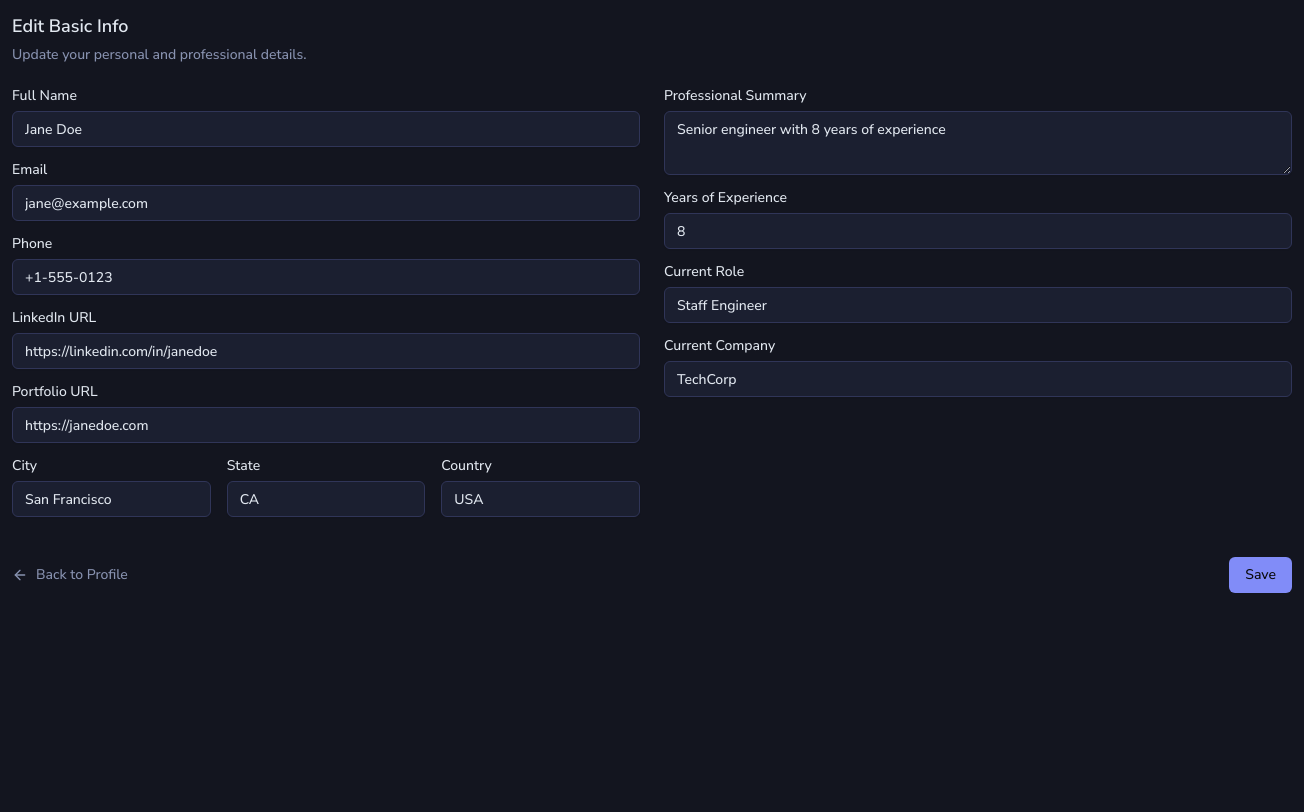
Test: BasicInfoEditor › submission › shows friendly error for DUPLICATE_EMAIL
The width and height of the screenshot is (1304, 812).
What coordinates should you click on to do the following:
click the button "Save"
I would click on:
 (1261, 575)
Its box is x1=1229 y1=557 x2=1292 y2=593.
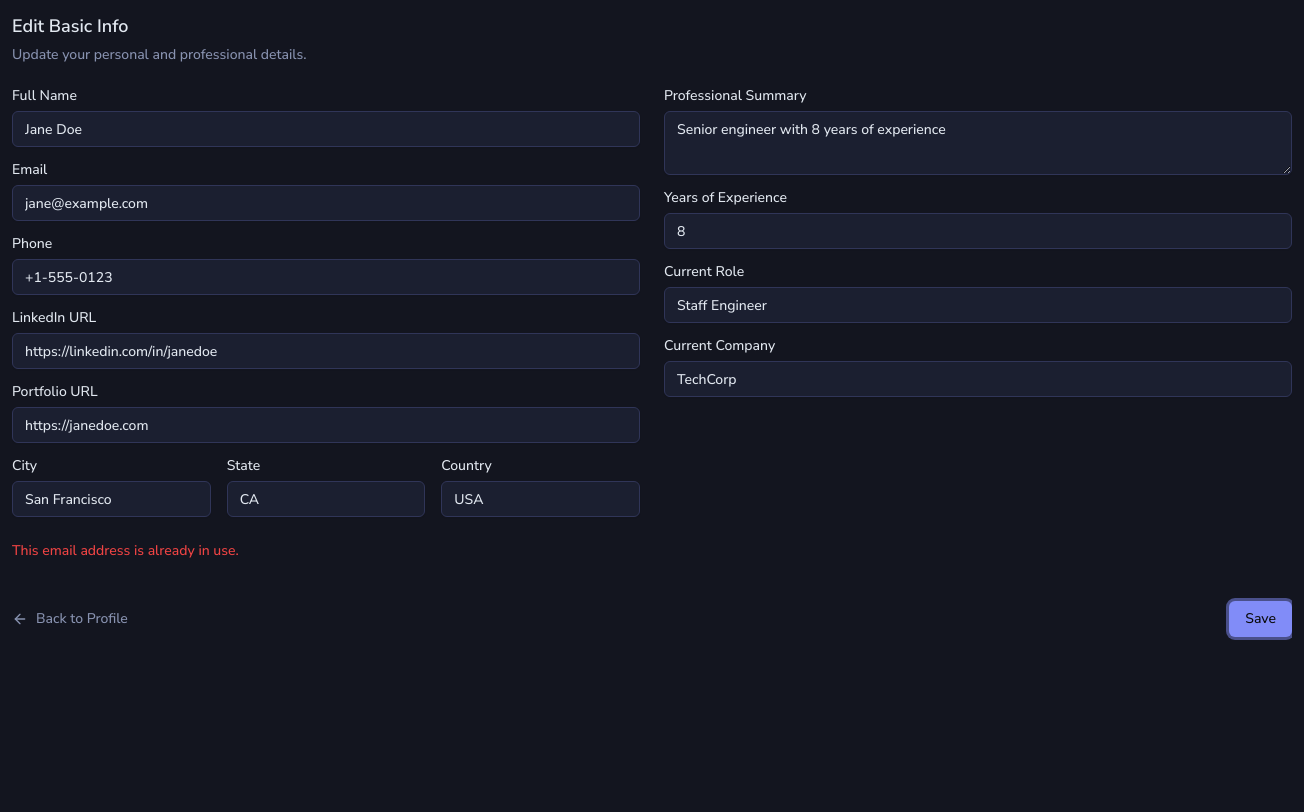
Now the text "This email address is already in use." is shown, box x1=12 y1=541 x2=239 y2=560
